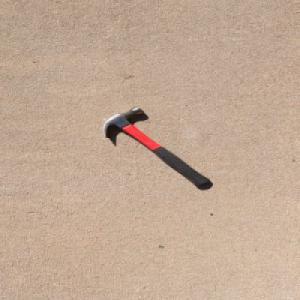Hammer: (101, 105, 212, 188)
